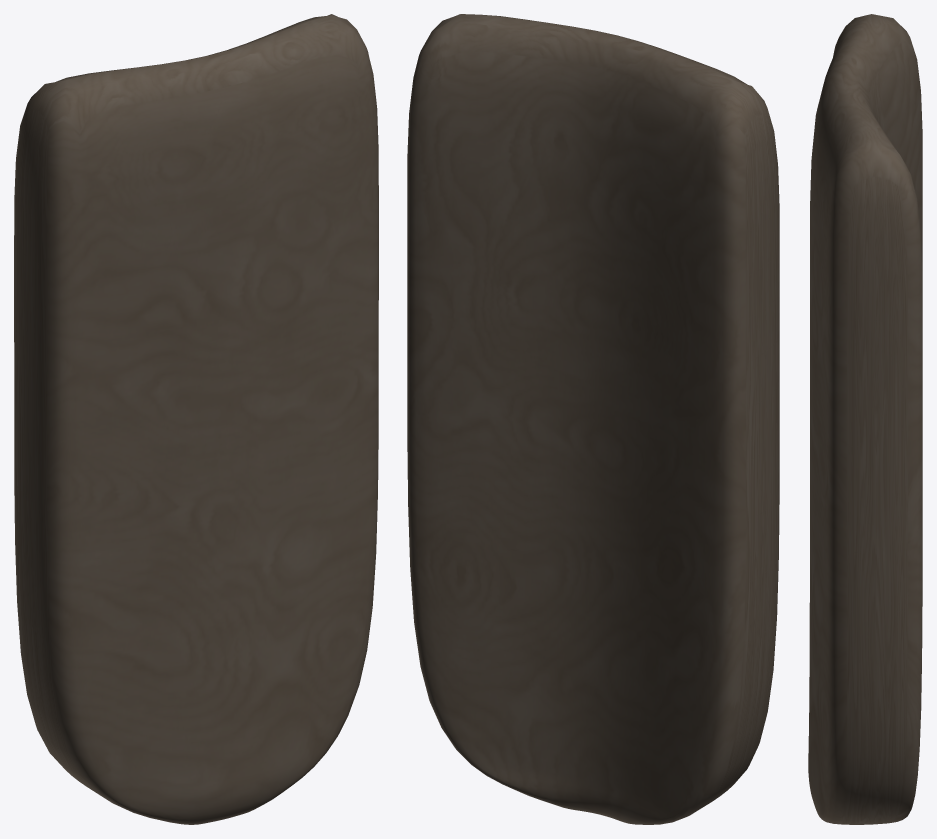
The model's file is langue_chevre.fbx.
3 views of the same model, side by side, from view 1: azimuth 30°, elevation 25°; view 2: azimuth 150°, elevation 25°; view 3: azimuth 270°, elevation 25° (orthographic). The views are drawn at different scales.
Visible parts, largest first — view 1: langue chevre; view 2: langue chevre; view 3: langue chevre.
Boxes of the visible parts, <box> form: langue chevre: <box>14,14,378,824</box>; langue chevre: <box>407,14,779,824</box>; langue chevre: <box>808,14,922,824</box>.
Size of the model in its own units: 5.1 by 11.05 by 1.56.
Materials: 1 (1 with a texture image).
